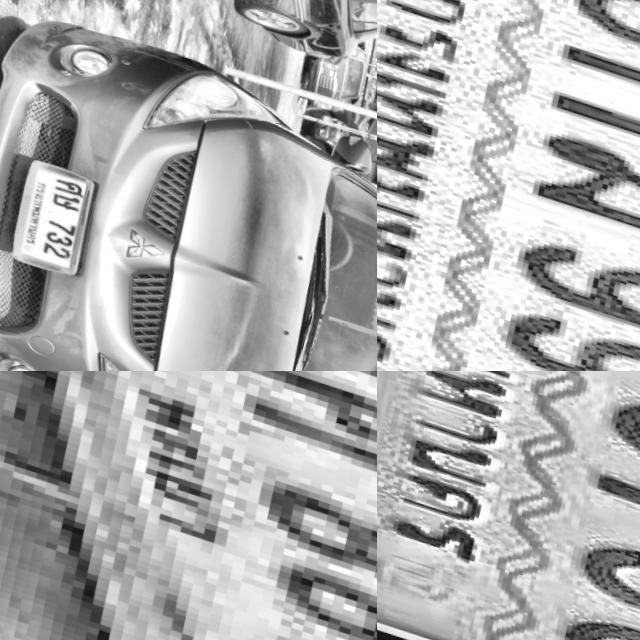license-plate: (0, 371, 377, 640), (377, 0, 640, 371), (377, 371, 640, 640), (0, 147, 104, 283)
